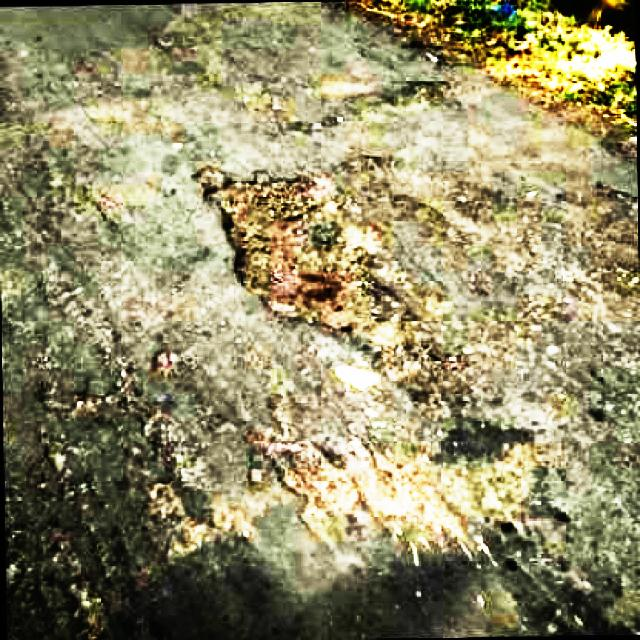pothole: (196, 163, 436, 343), (250, 431, 464, 532)
